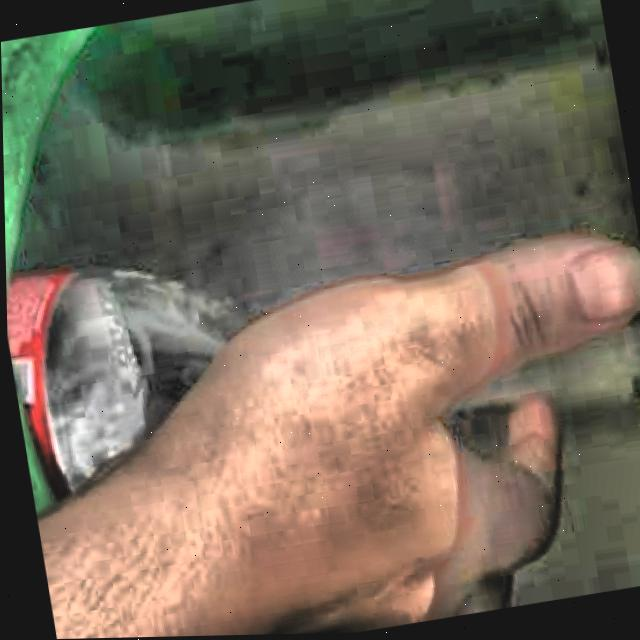glass: (5, 272, 238, 500)
